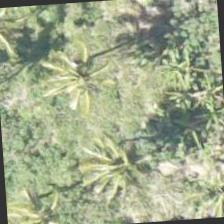Kelapa_Sawit: (75, 120, 171, 216), (36, 29, 132, 125), (173, 153, 223, 220), (5, 181, 66, 223)
